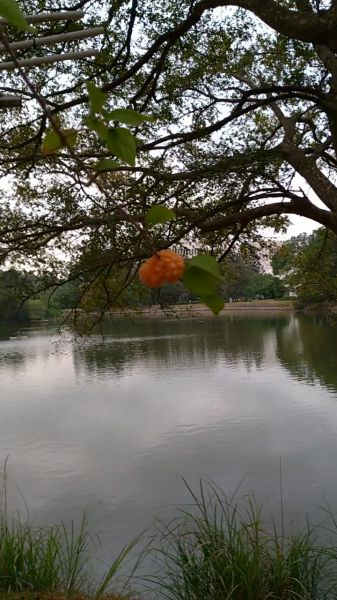eggs: (134, 246, 192, 288)
